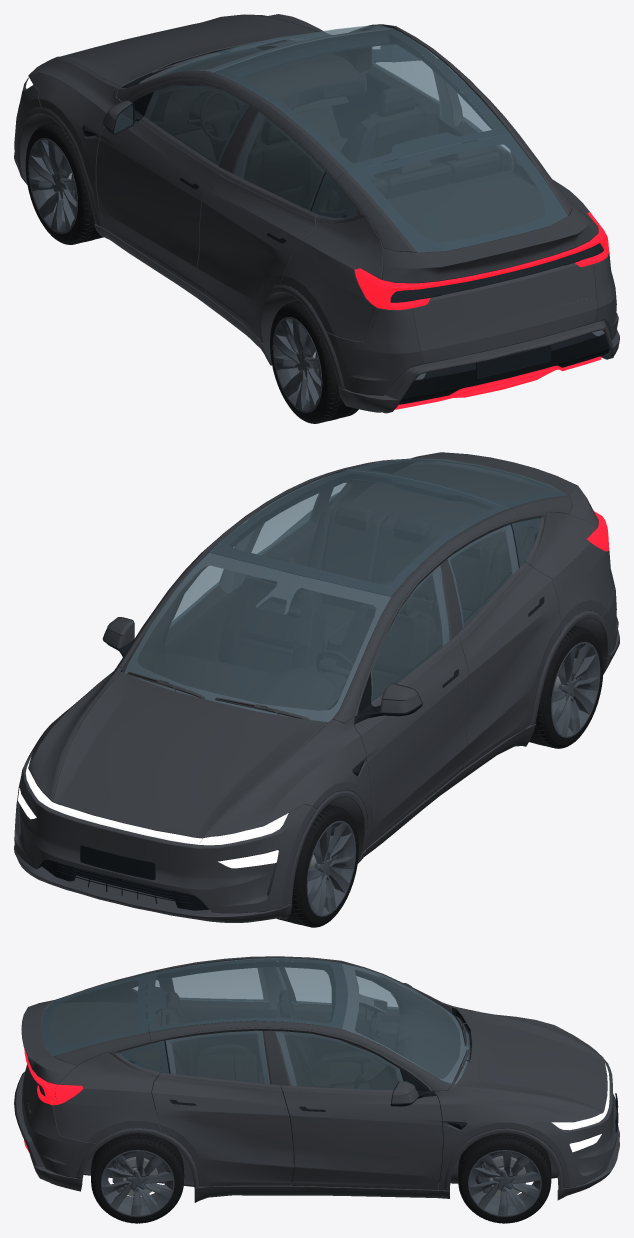
File: model-y-juniper.glb
3 renders of one model, top to bottom at view 1: azimuth 30°, elevation 25°; view 2: azimuth 150°, elevation 25°; view 3: azimuth 270°, elevation 25°, orthographic. The views are drawn at different scales.
Parts seen in each view (by area): view 1: Plane_Mesh.002, Interior_Mesh.042, Plane.011_Mesh.009, Plane.023_Mesh.067, Plane.021_Mesh.012, Plane.001_Mesh.064, Plane.006_Mesh.065, Plane.022_Mesh.014, Circle_Mesh.048, Circle.005_Mesh.052, Plane.004_Mesh.004, Plane.040_Mesh.026 (+16 smaller); view 2: Plane_Mesh.002, Interior_Mesh.042, Plane.011_Mesh.009, Plane.023_Mesh.067, Plane.021_Mesh.012, Plane.012_Mesh.066, Plane.001_Mesh.064, Circle.005_Mesh.052, Circle_Mesh.048, Plane.004_Mesh.004, Object005.003_Mesh.045, Object005.001_Mesh.049 (+13 smaller); view 3: Plane_Mesh.002, Plane.011_Mesh.009, Interior_Mesh.042, Plane.023_Mesh.067, Plane.021_Mesh.012, Plane.004_Mesh.004, Circle.011_Mesh.063, Circle.006_Mesh.056, Object005.004_Mesh.060, Object005.002_Mesh.057, Plane.001_Mesh.064, Plane.070_Mesh.044 (+10 smaller).
Part boxes in pixels (x1,y1,x2,y2): Plane_Mesh.002: (14,14,618,395); Interior_Mesh.042: (137,29,571,252); Plane.011_Mesh.009: (144,25,567,252); Plane.023_Mesh.067: (212,28,509,172); Plane.021_Mesh.012: (14,107,619,413); Plane.001_Mesh.064: (213,29,509,173); Plane.006_Mesh.065: (350,134,566,252); Plane.022_Mesh.014: (398,333,609,404); Circle_Mesh.048: (28,138,77,233); Circle.005_Mesh.052: (272,317,322,412); Plane.004_Mesh.004: (127,37,510,223); Plane.040_Mesh.026: (354,212,609,309); Plane_Mesh.002: (14,452,618,913); Interior_Mesh.042: (137,461,544,737); Plane.011_Mesh.009: (124,458,566,722); Plane.023_Mesh.067: (209,469,508,596); Plane.021_Mesh.012: (14,565,619,922); Plane.012_Mesh.066: (124,553,391,722); Plane.001_Mesh.064: (210,470,507,596); Circle.005_Mesh.052: (551,642,600,737); Circle_Mesh.048: (306,820,355,916); Plane.004_Mesh.004: (171,473,546,716); Object005.003_Mesh.045: (277,804,358,927); Object005.001_Mesh.049: (529,626,603,748); Plane_Mesh.002: (21,956,617,1190); Plane.011_Mesh.009: (41,963,469,1090); Interior_Mesh.042: (41,962,460,1182); Plane.023_Mesh.067: (146,957,348,1031); Plane.021_Mesh.012: (14,1071,619,1202); Plane.004_Mesh.004: (108,958,432,1094); Circle.011_Mesh.063: (100,1150,174,1216); Circle.006_Mesh.056: (468,1150,541,1216); Object005.004_Mesh.060: (91,1133,184,1223); Object005.002_Mesh.057: (458,1133,551,1223); Plane.001_Mesh.064: (146,958,347,1031); Plane.070_Mesh.044: (166,962,402,1085).
Bounding box in the file's own units: 2.13 × 1.65 × 4.79.
